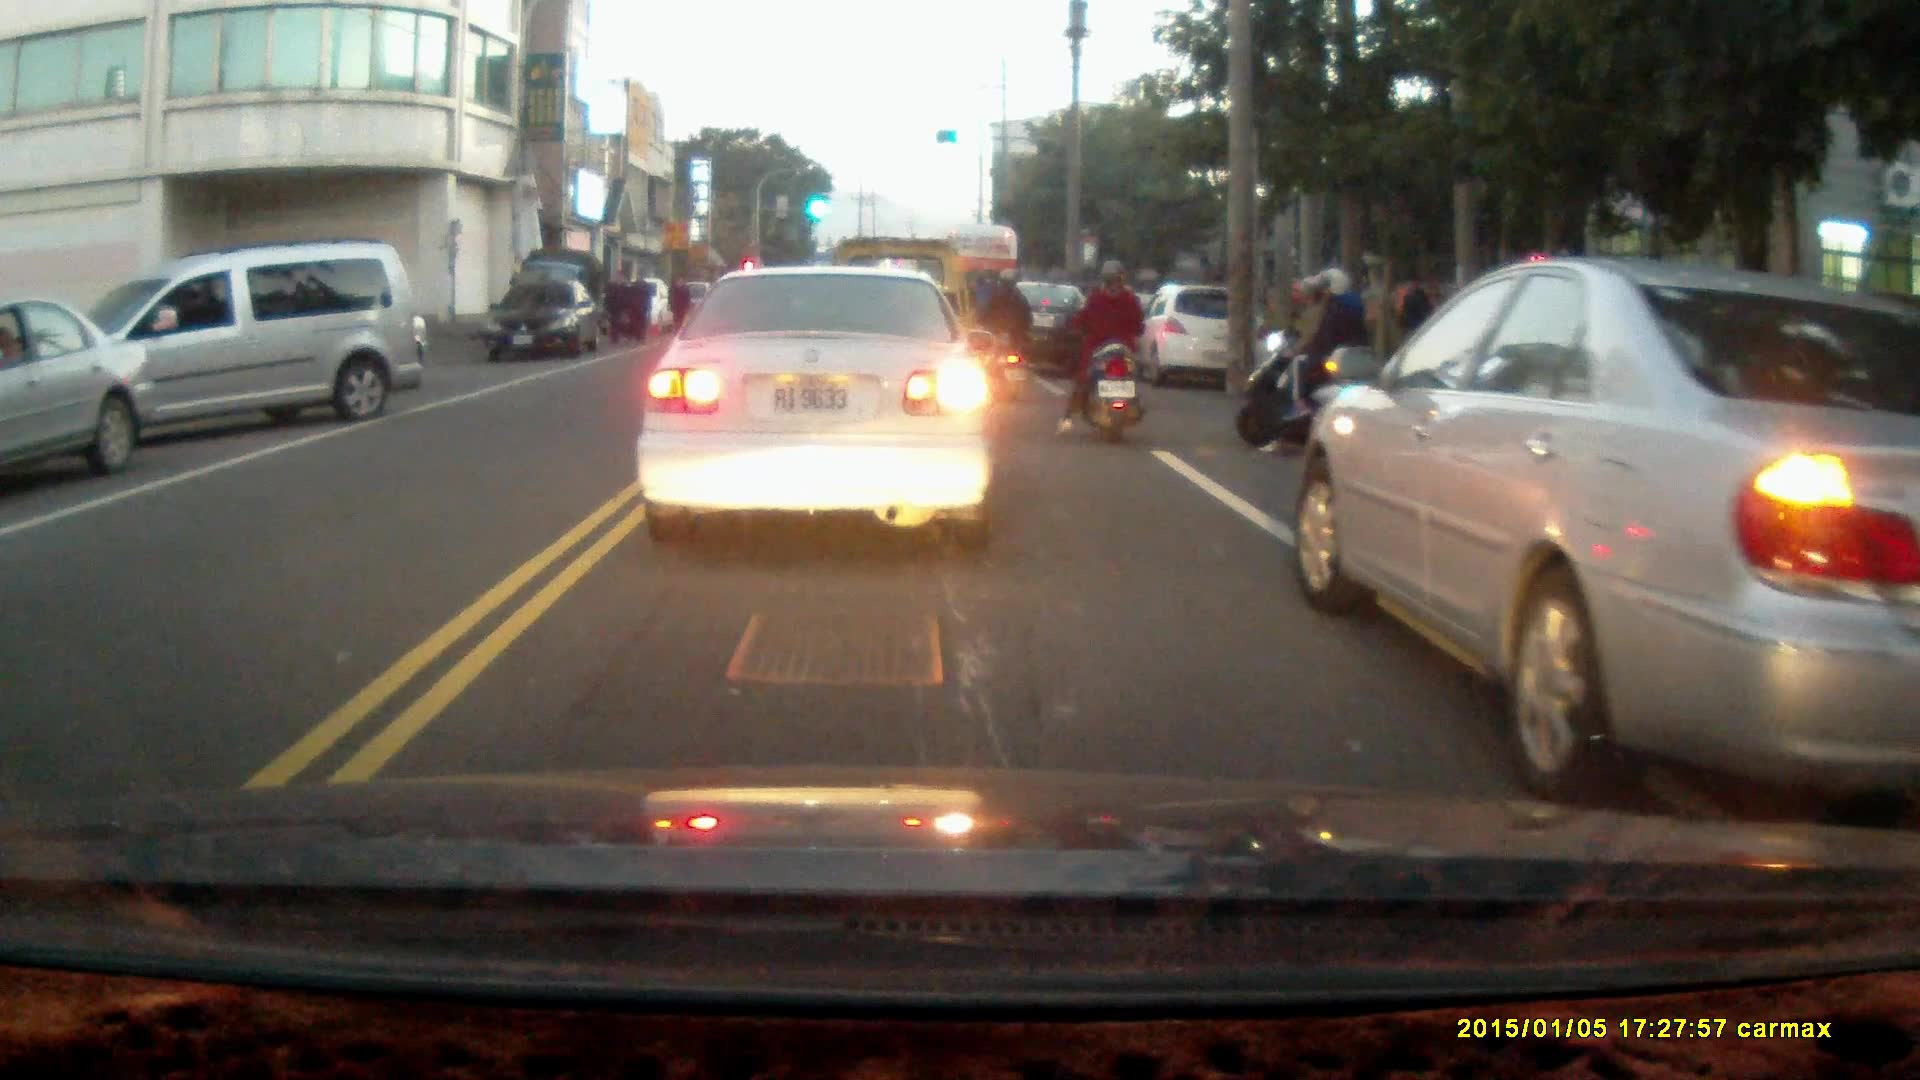pedestrian: (1397, 274, 1432, 363), (601, 271, 630, 349), (624, 272, 650, 349), (665, 272, 693, 340)
rider: (1235, 265, 1379, 459), (1052, 261, 1148, 446), (964, 269, 1029, 395)
vehicle: (1293, 256, 1920, 791), (644, 270, 999, 564), (51, 248, 418, 456), (1, 299, 155, 485), (1134, 284, 1264, 396), (971, 285, 1110, 383), (490, 279, 609, 365)
